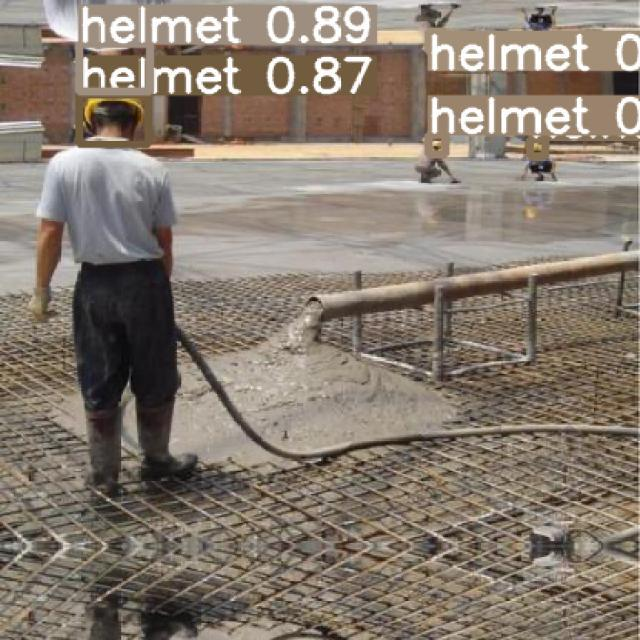Helmet: (82, 96, 144, 137)
